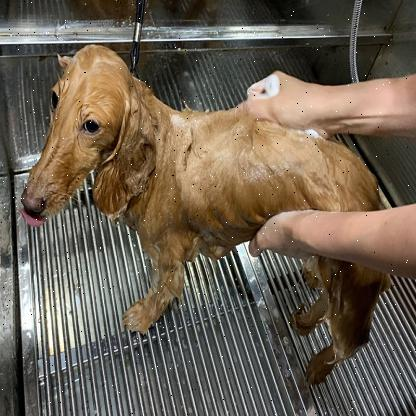dog: (20, 34, 238, 338)
